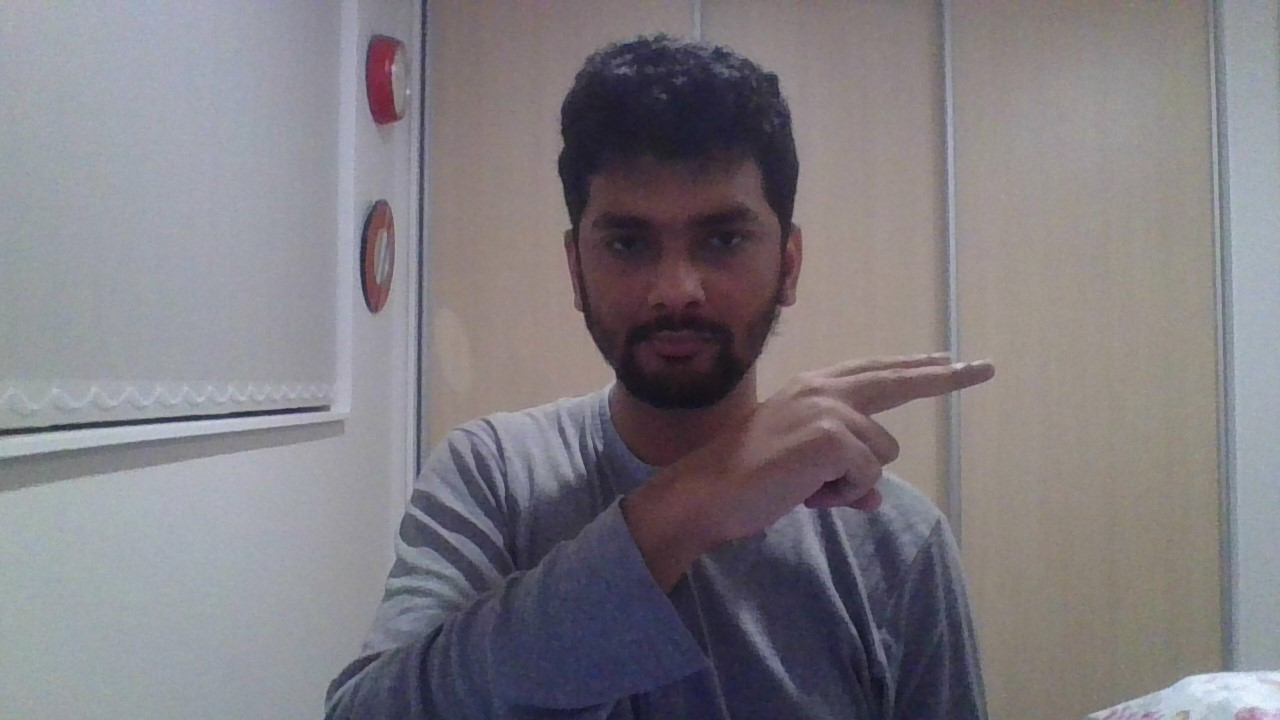look_around: (595, 352, 995, 594)
